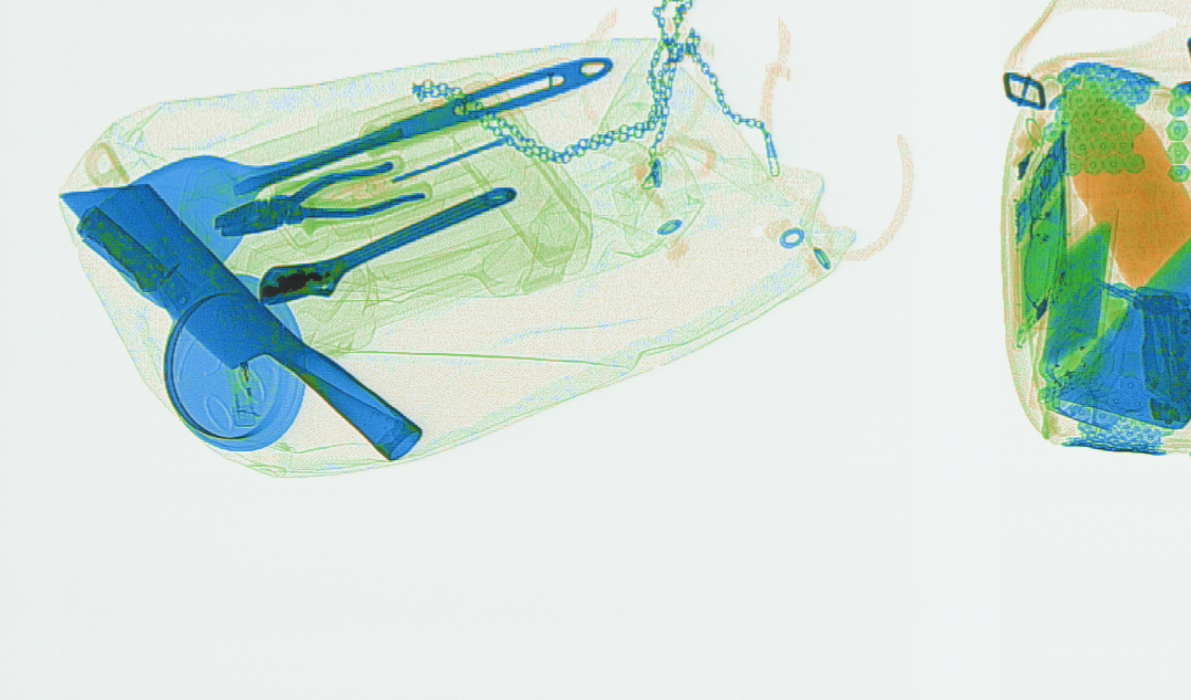knife: (57, 181, 420, 460), (71, 207, 173, 294)
